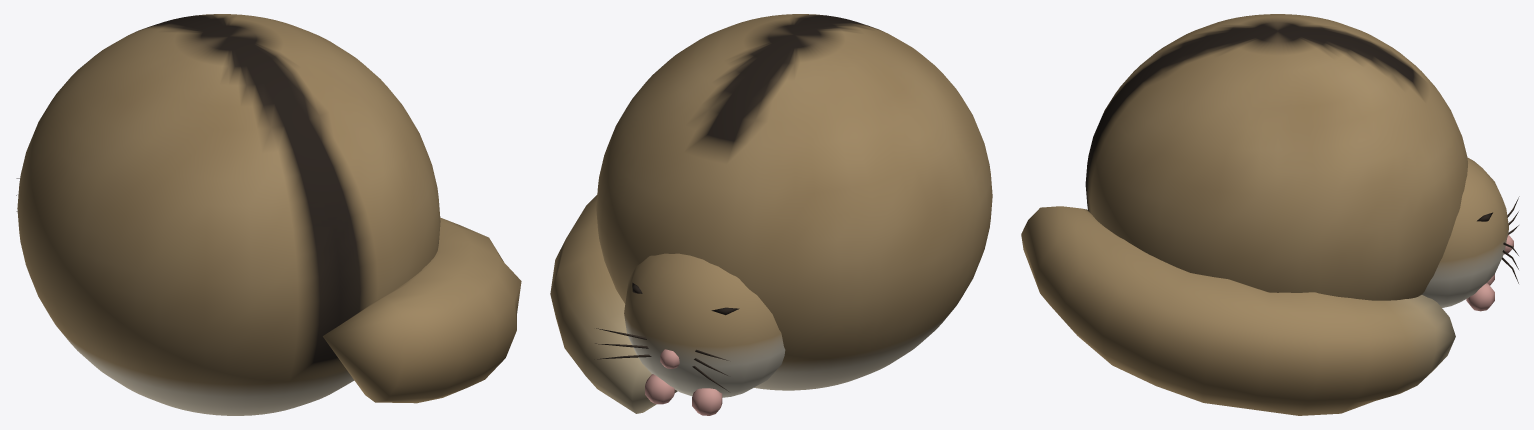
Rendered from Yamane.fbx.
The picture shows the model from 3 angles, left to right: view 1: azimuth 30°, elevation 25°; view 2: azimuth 150°, elevation 25°; view 3: azimuth 270°, elevation 25°; orthographic projection. The views are drawn at different scales.
Parts seen in each view (by area): view 1: Yamane; view 2: Yamane; view 3: Yamane.
Part boxes in pixels (left/top/right/bottom): Yamane: left=16, top=14, right=521, bottom=415; Yamane: left=550, top=14, right=992, bottom=415; Yamane: left=1021, top=14, right=1519, bottom=415.
Size of the model in its own units: 2.33 by 1.95 by 2.8.
